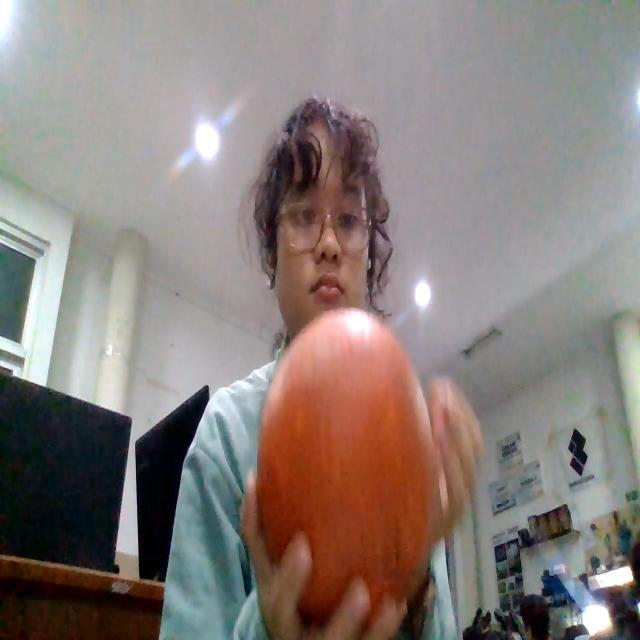ball: (266, 314, 436, 610)
